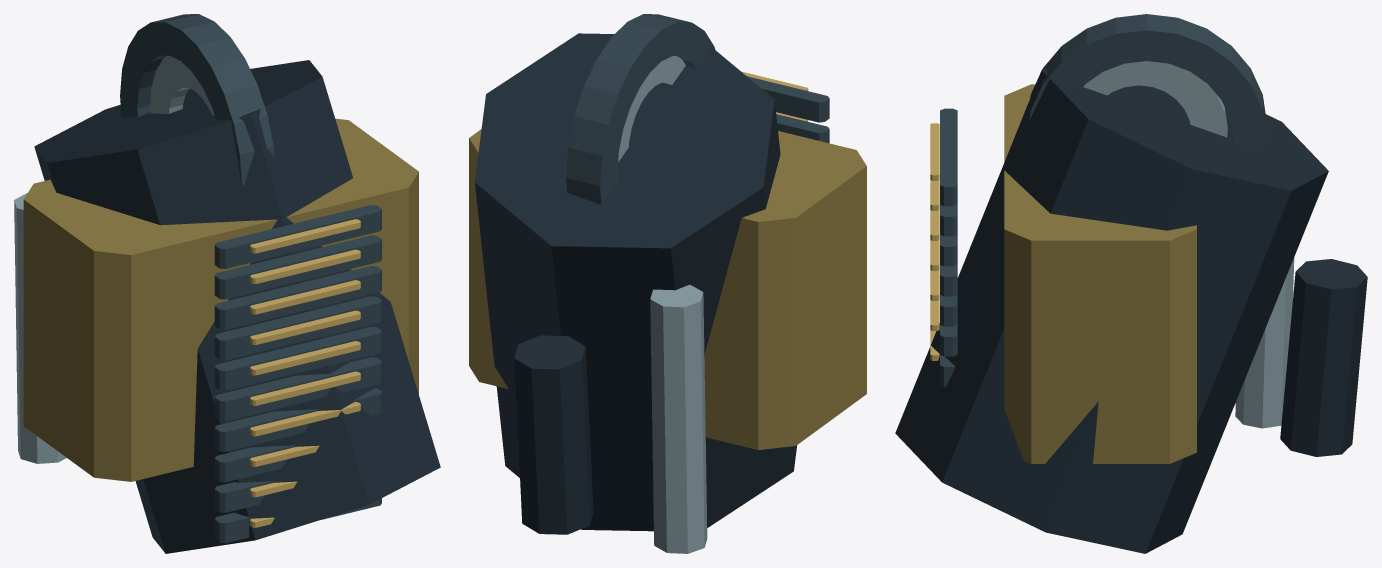
File: enemy_gunner_4k_thigh_r.obj
3 views of the same model, side by side, from view 1: azimuth 30°, elevation 25°; view 2: azimuth 150°, elevation 25°; view 3: azimuth 270°, elevation 25° (orthographic). The views are drawn at different scales.
Size of the model in its own units: 0.5035 by 0.7033 by 0.6133.
